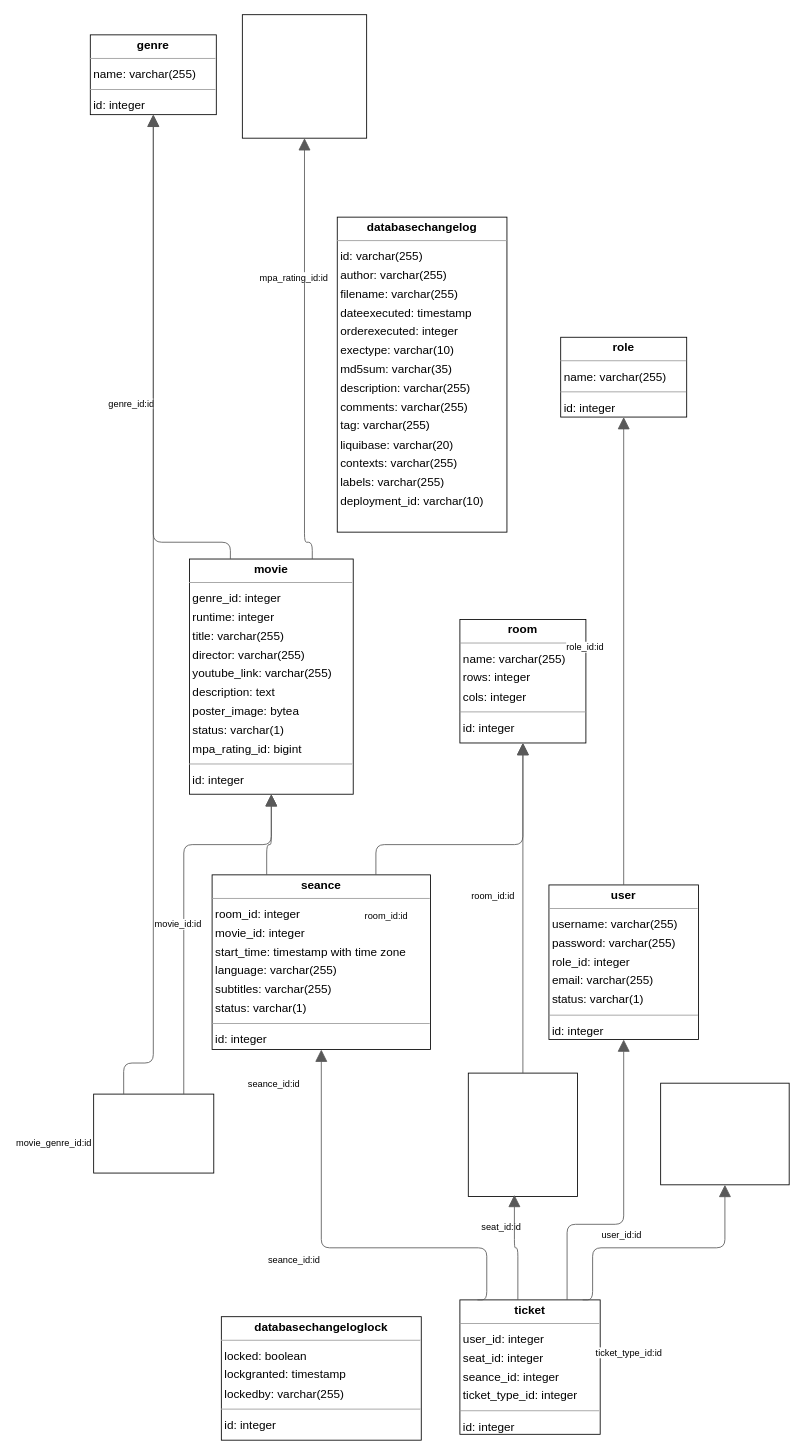
Some shapes in this 804 by 1455 pixel diagram are drawn without their labels. Here are the shapes that lost their labels. From the top down, the centre of each, then its label:
At point 304,76: "mpa_rating code: varchar(10) name: varchar(100) description: text id: bigint".
At point 153,1133: "movie_genre movie_id: bigint genre_id: bigint".
At point 522,1134: "seat room_id: integer col: integer row: integer id: integer".
At point 724,1133: "ticket_type name: varchar(255) price: numeric(10,2) id: integer".
